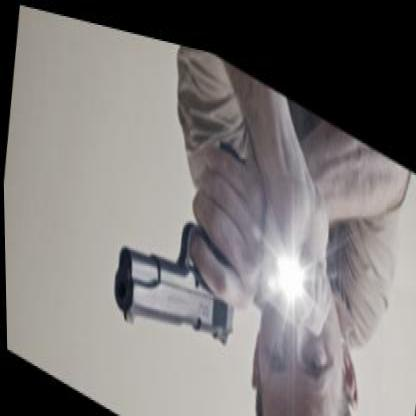pistol: (104, 72, 262, 386)
